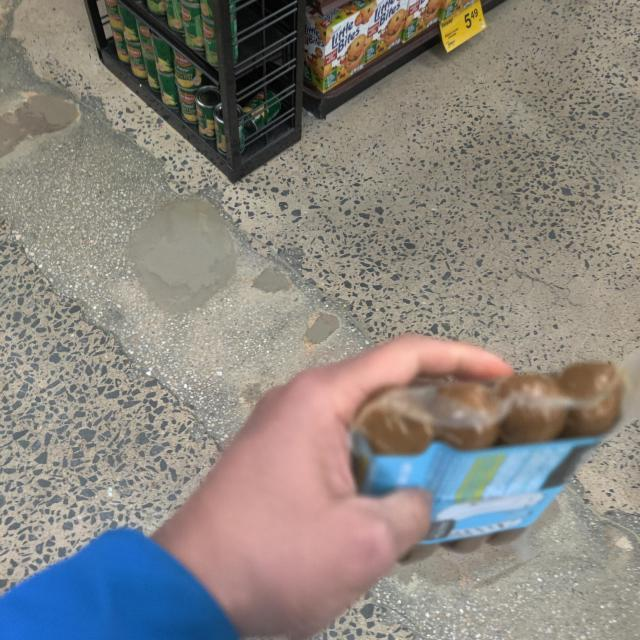Meat: (349, 350, 627, 566)
